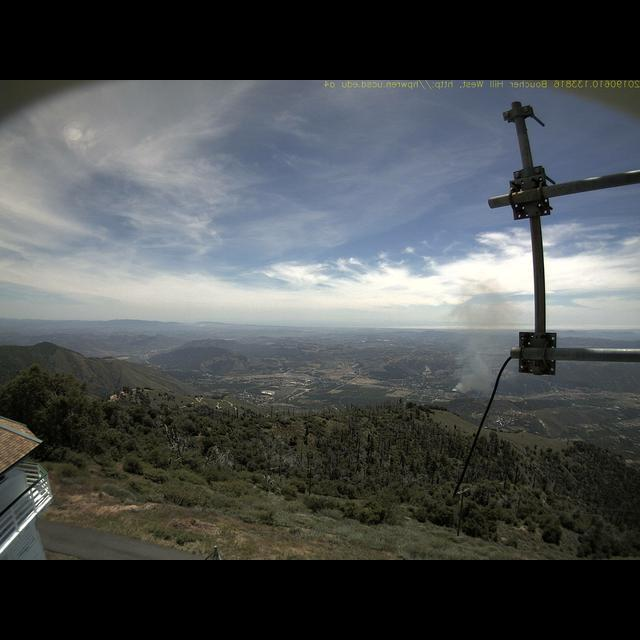Smoke: (447, 281, 520, 392)
